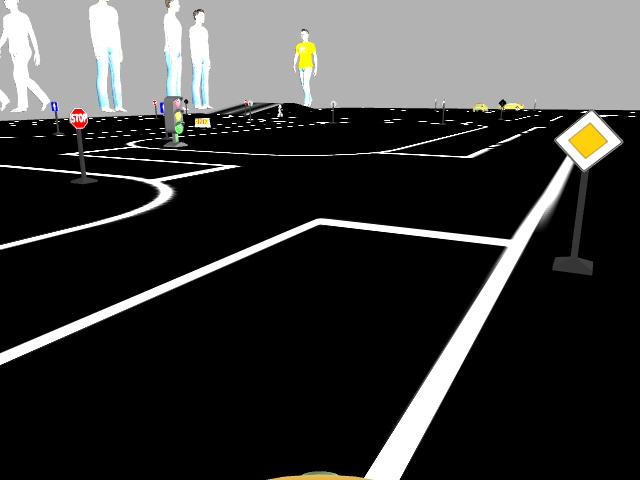ClosedRoadStand: (193, 116, 209, 128)
Priority: (557, 109, 621, 171)
Stop: (66, 109, 90, 127)
TrafficLight: (163, 95, 185, 134)
